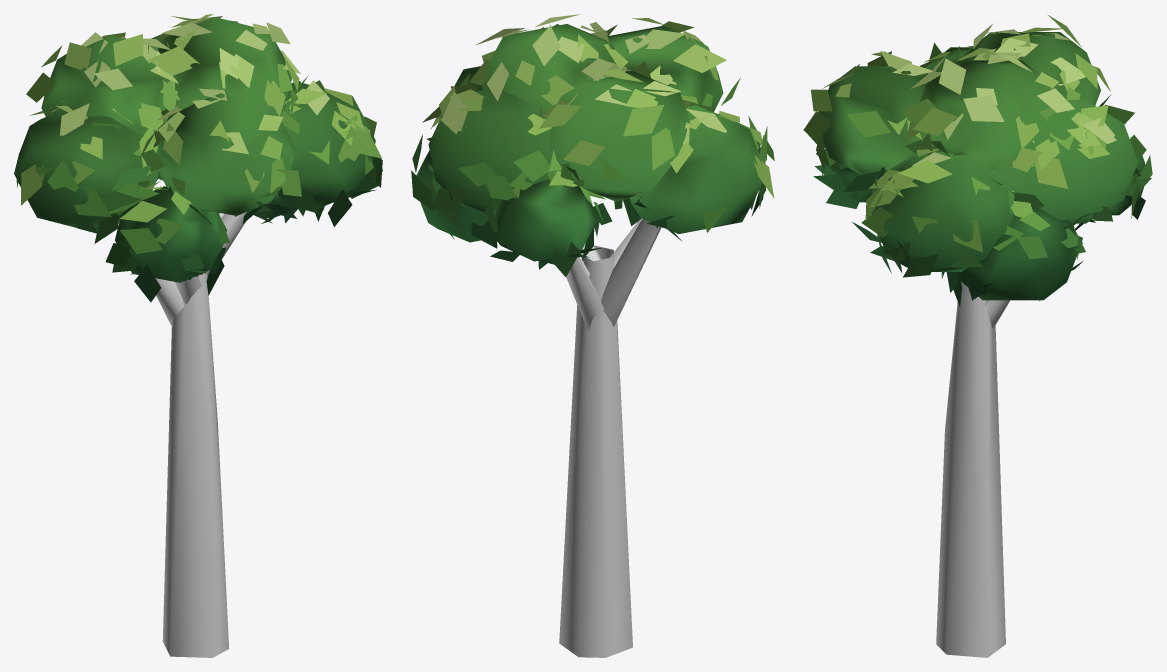
The model's file is t_round1.fbx.
3 renders of one model, left to right at view 1: azimuth 30°, elevation 25°; view 2: azimuth 150°, elevation 25°; view 3: azimuth 270°, elevation 25°, orthographic. The views are drawn at different scales.
Visible parts, largest first — view 1: model; view 2: model; view 3: model.
Boxes of the visible parts, left/top/right/bottom form: model: left=14, top=14, right=382, bottom=657; model: left=411, top=14, right=774, bottom=657; model: left=803, top=14, right=1152, bottom=657.
Size of the model in its own units: 0.7675 by 1.34 by 0.7003.
